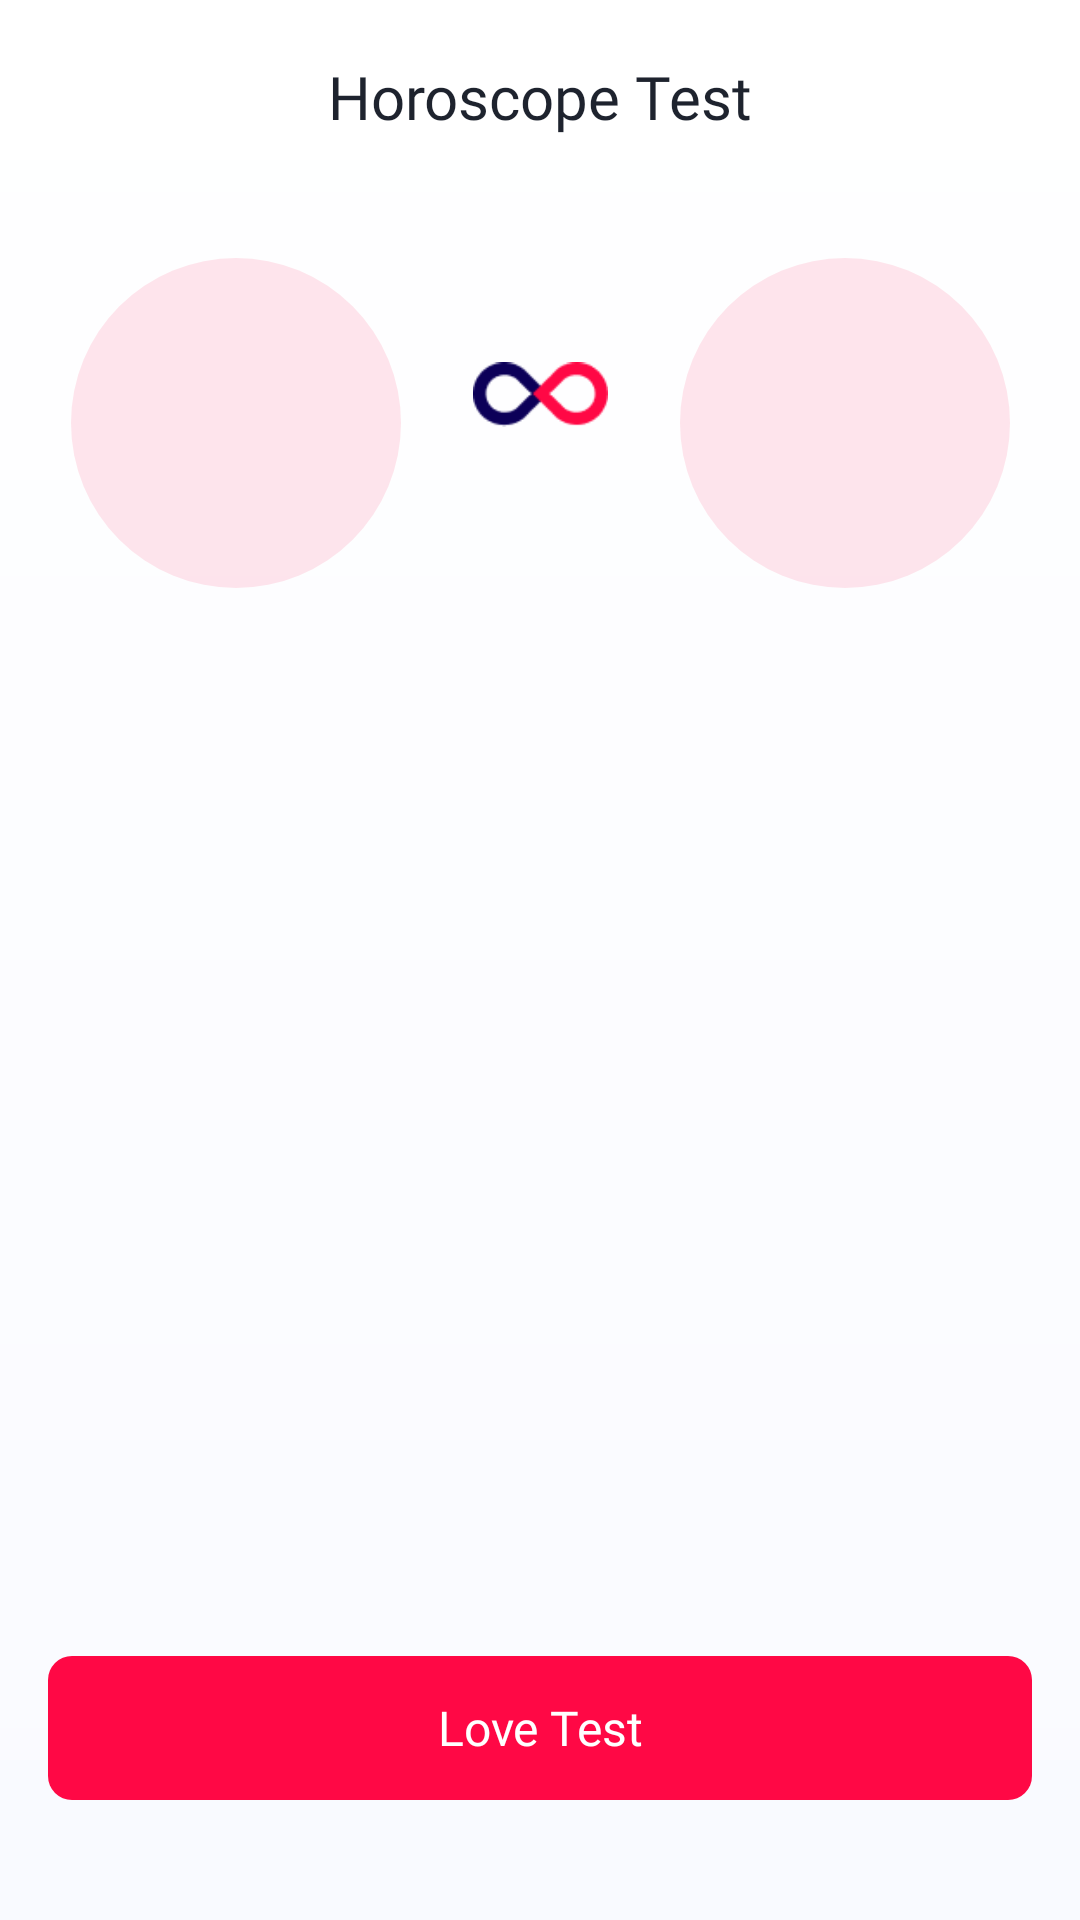

Icons on this 1080w x 1920h Android screen, each with the point to tap as (x=x, y=y):
Love infinity: (x=540, y=394)
